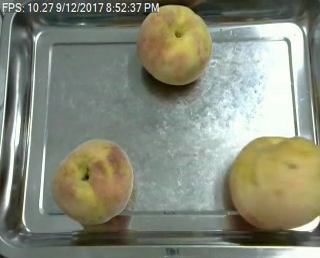Peach: (227, 135, 319, 232), (51, 139, 134, 226), (137, 3, 212, 86)
